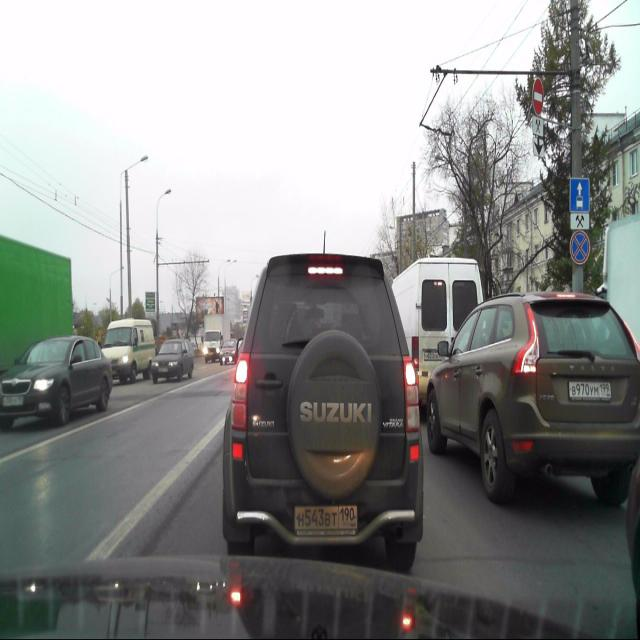road sign: (569, 177, 590, 212), (570, 213, 590, 233), (532, 119, 544, 138)
